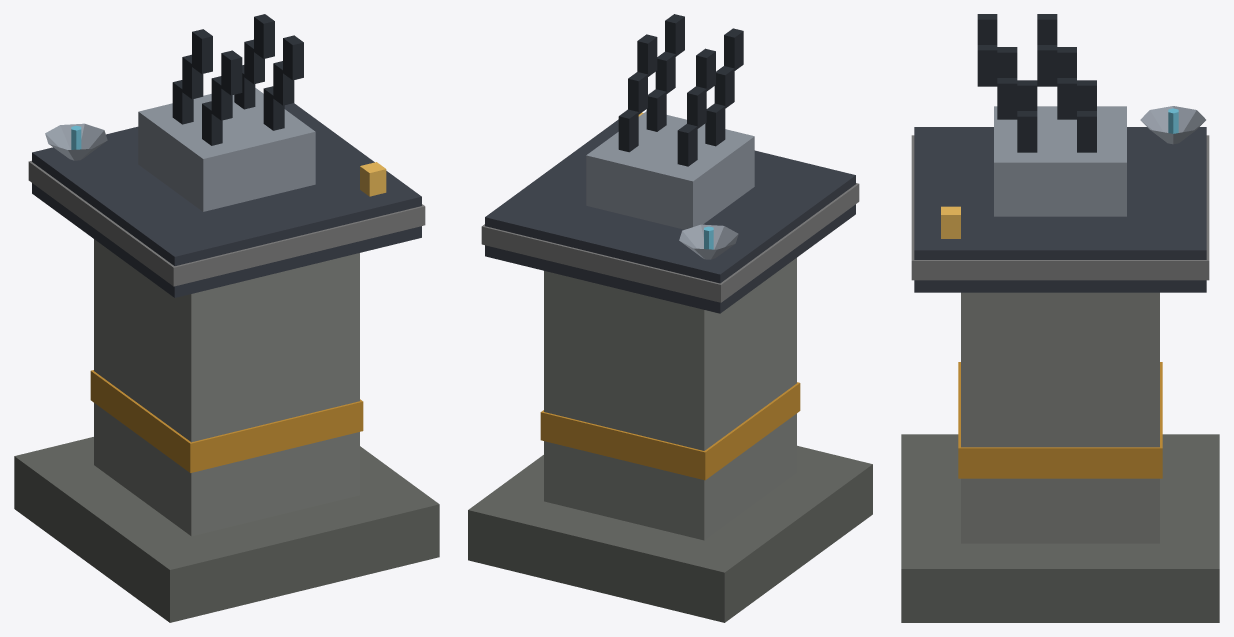
File: flak-tower.obj
3 views of the same model, side by side, from view 1: azimuth 30°, elevation 25°; view 2: azimuth 150°, elevation 25°; view 3: azimuth 270°, elevation 25° (orthographic). The views are drawn at different scales.
Parts seen in each view (by area): view 1: flak-tower; view 2: flak-tower; view 3: flak-tower.
Part boxes in pixels (box(x1,y1,x2,y2)): flak-tower: box(14, 14, 439, 622); flak-tower: box(468, 14, 872, 622); flak-tower: box(901, 14, 1219, 622).
Size of the model in its own units: 4.8 by 8.7 by 4.8.
